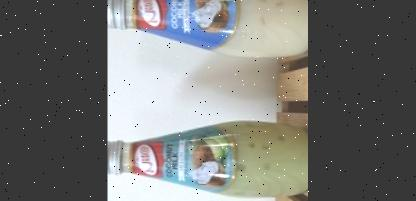Others: (108, 116, 308, 200), (107, 0, 308, 53)
